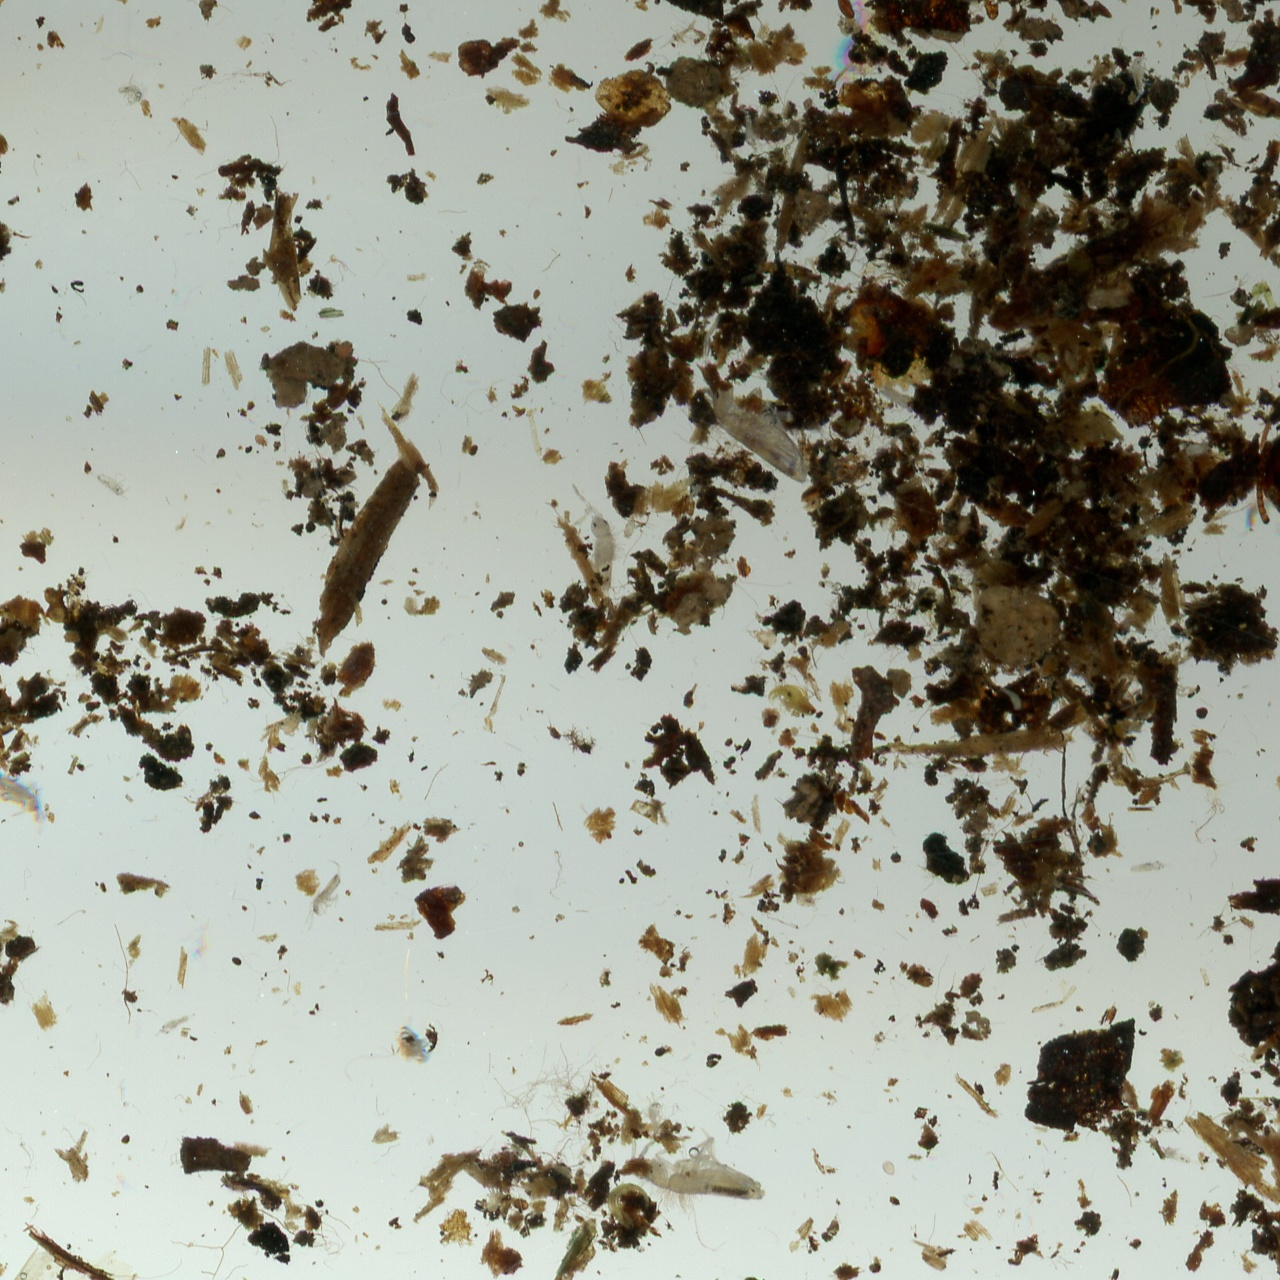arthropod: (1208, 253, 1280, 599), (682, 350, 837, 502), (625, 1133, 772, 1218), (570, 478, 630, 603), (286, 854, 361, 941), (0, 745, 66, 841), (79, 456, 143, 507), (874, 375, 921, 423), (150, 1007, 200, 1043), (1156, 1139, 1205, 1172), (737, 100, 761, 156), (642, 1089, 670, 1136), (1128, 53, 1152, 106), (114, 72, 149, 107), (745, 623, 779, 651), (1127, 859, 1175, 874), (1183, 439, 1215, 459), (835, 0, 858, 21)
